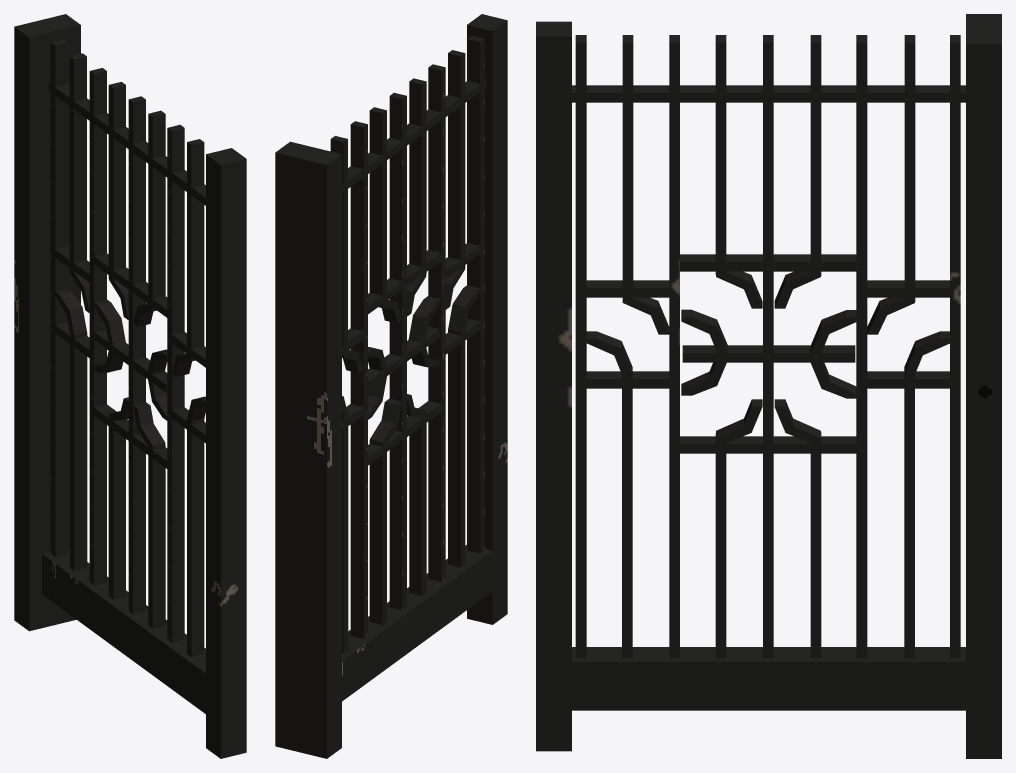
File: gate.glb
3 renders of one model, left to right at view 1: azimuth 30°, elevation 25°; view 2: azimuth 150°, elevation 25°; view 3: azimuth 270°, elevation 25°, orthographic. The views are drawn at different scales.
Visible parts, largest first — view 1: Cube.003; view 2: Cube.003; view 3: Cube.003.
Boxes of the visible parts, x1=… form: Cube.003: x1=14, y1=14, x2=246, y2=758; Cube.003: x1=275, y1=14, x2=507, y2=758; Cube.003: x1=536, y1=14, x2=1001, y2=758.
Size of the model in its own units: 1 by 11 by 6.5.
Materials: 5 (5 with a texture image).
